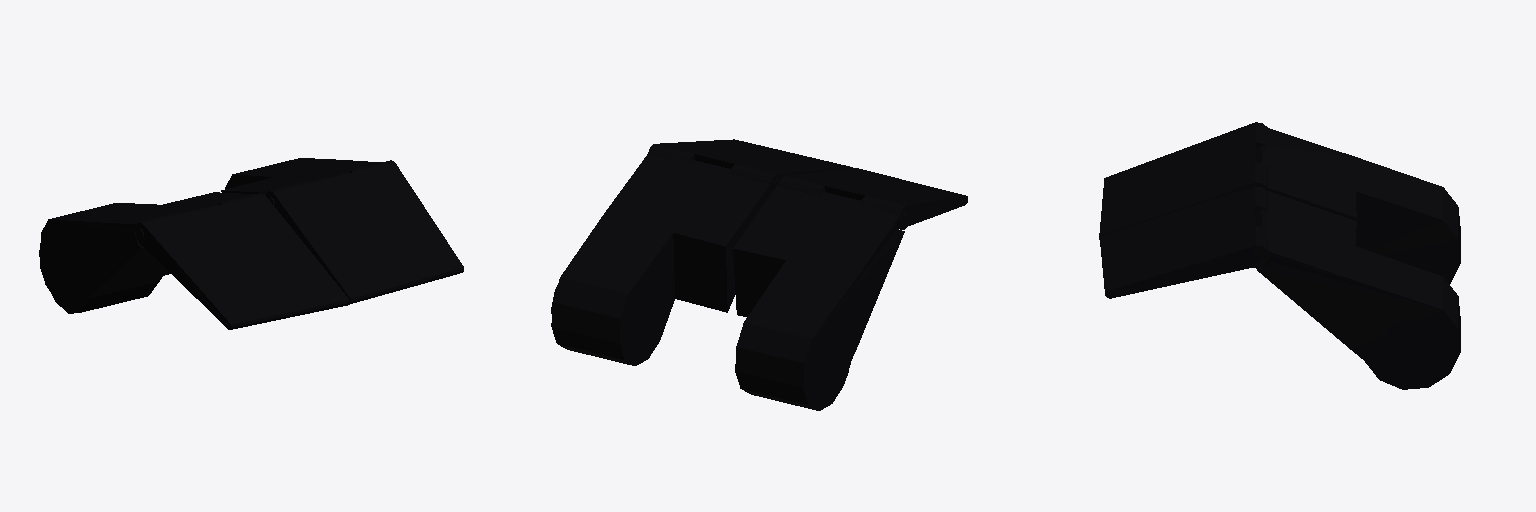
File: fingerB.obj
The picture shows the model from 3 angles: view 1: azimuth 30°, elevation 25°; view 2: azimuth 150°, elevation 25°; view 3: azimuth 270°, elevation 25°; orthographic projection.
Visible parts, largest first — view 1: polySurface32; view 2: polySurface32; view 3: polySurface32.
Part boxes in pixels (x1,y1,x2,y2): polySurface32: (39, 158, 463, 329); polySurface32: (551, 139, 967, 410); polySurface32: (1099, 122, 1460, 389).
Bounding box in the file's own units: 80.37 × 41.71 × 94.5.